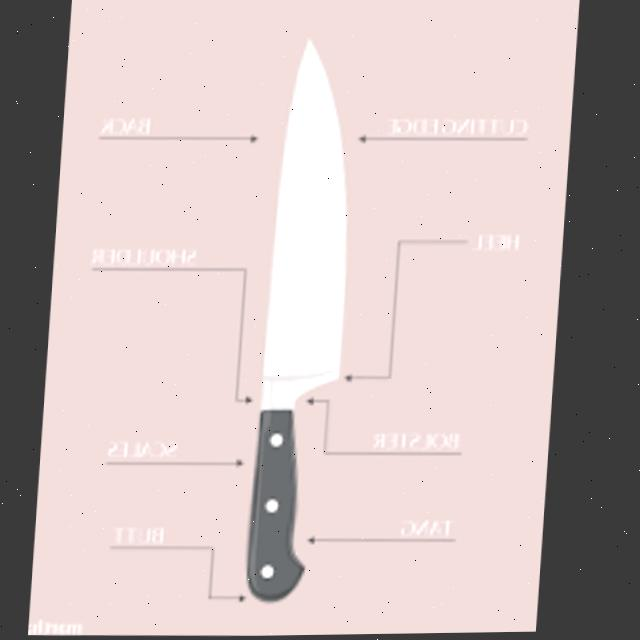Knife: (251, 38, 365, 601)
